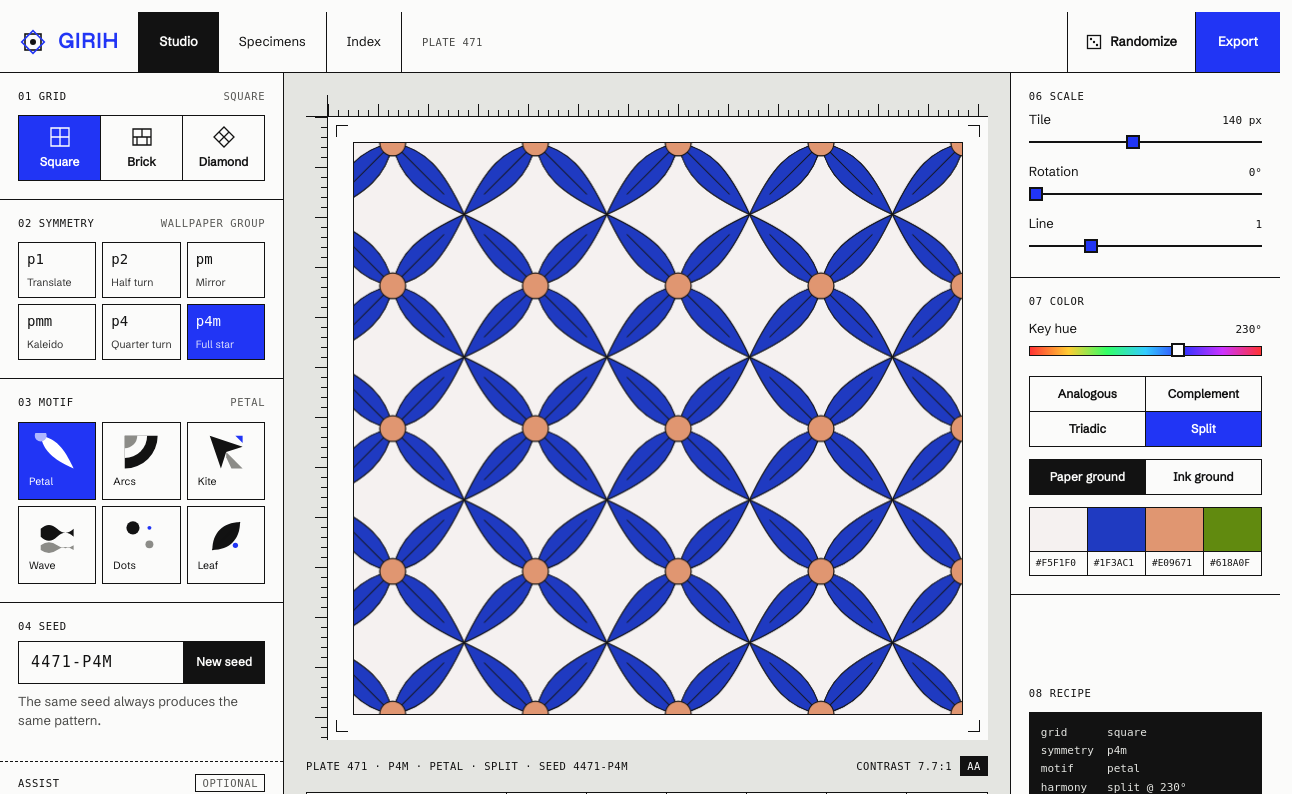
Scenario: Studio › changes symmetry, updates the URL and saves the recipe
Click the button with aria-label "p2," at (142,270), box [102,242,181,298]
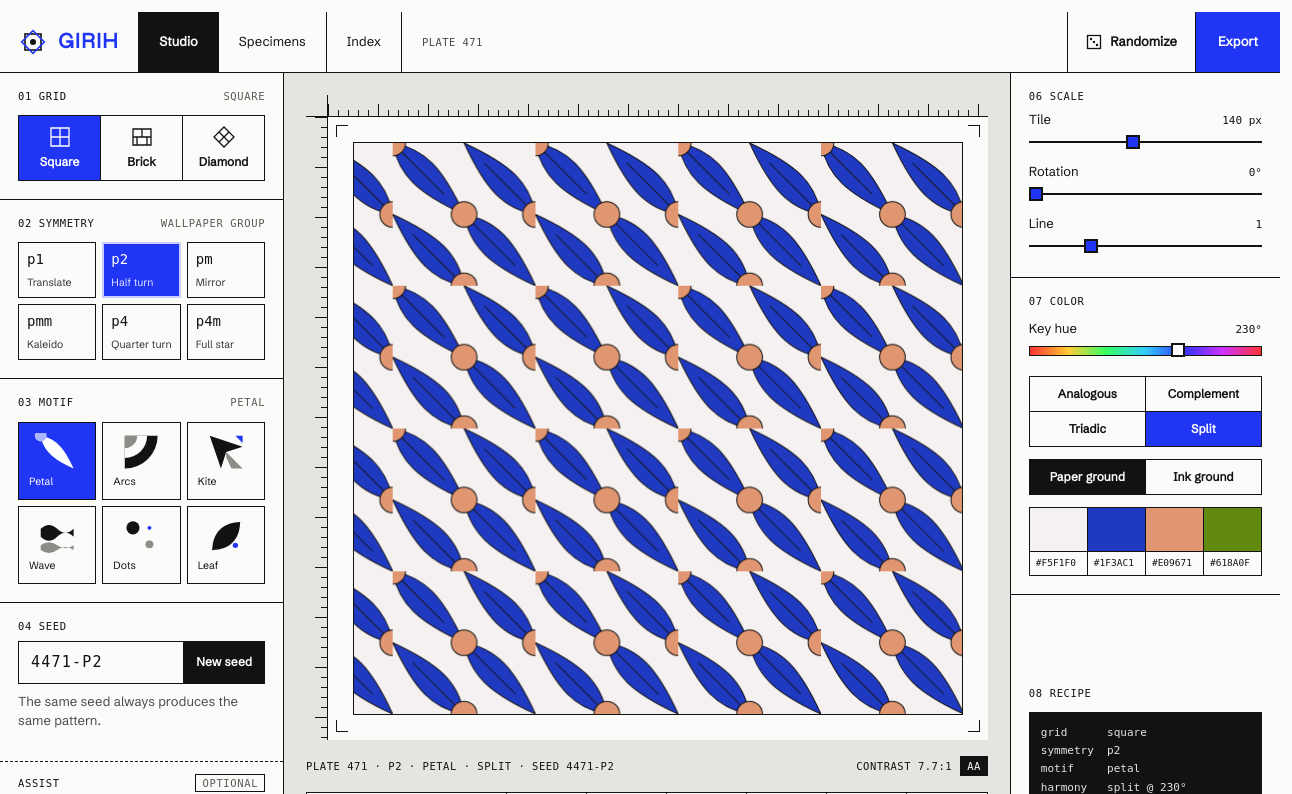
Check: the element with test id "plate-caption" shows "· p2 ·", box [306,756,988,776]
